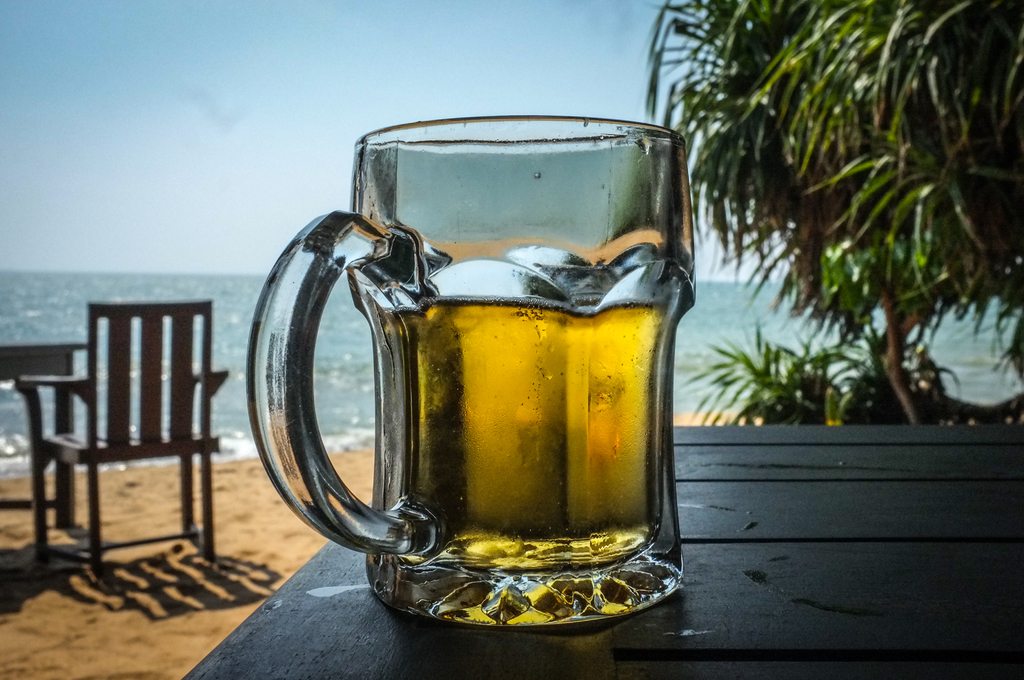Beer: (232, 106, 715, 631)
